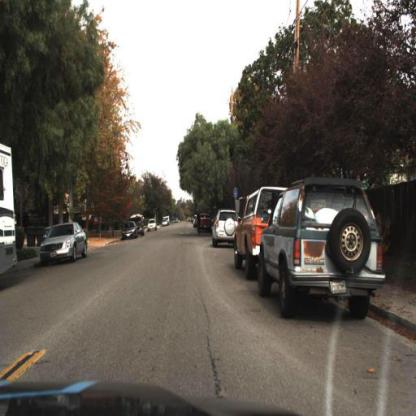car: (257, 176, 385, 321), (233, 185, 289, 283), (37, 220, 89, 267), (36, 222, 90, 265), (210, 209, 241, 249), (121, 218, 140, 246), (132, 213, 150, 237), (197, 214, 214, 236), (147, 216, 161, 234), (160, 218, 172, 231)
